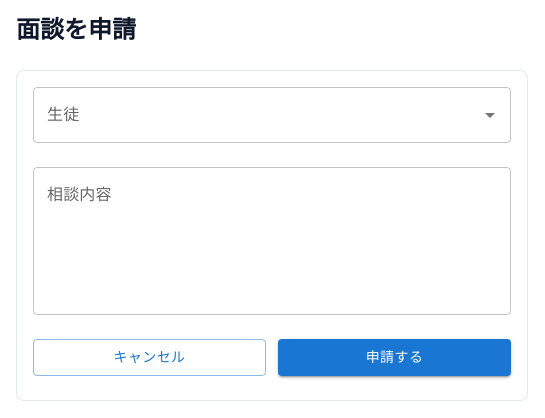
Test: teacher/CreateInterview Presenter › 検索に失敗したときは失敗した旨を表示する
Type "山田" into the dropdown labelled "生徒" at {"x": 257, "y": 115}, box [42,96,472,134]
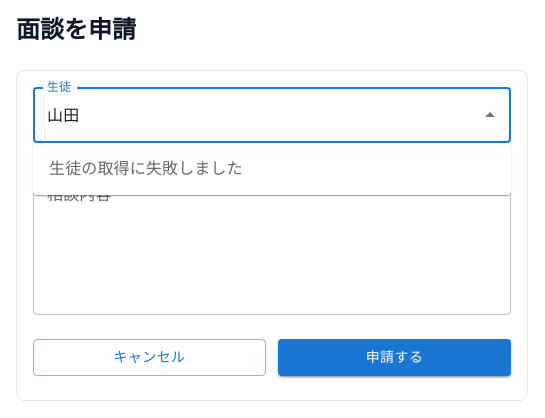
Now the text "生徒の取得に失敗しました" is shown, box [49,159,243,178]
